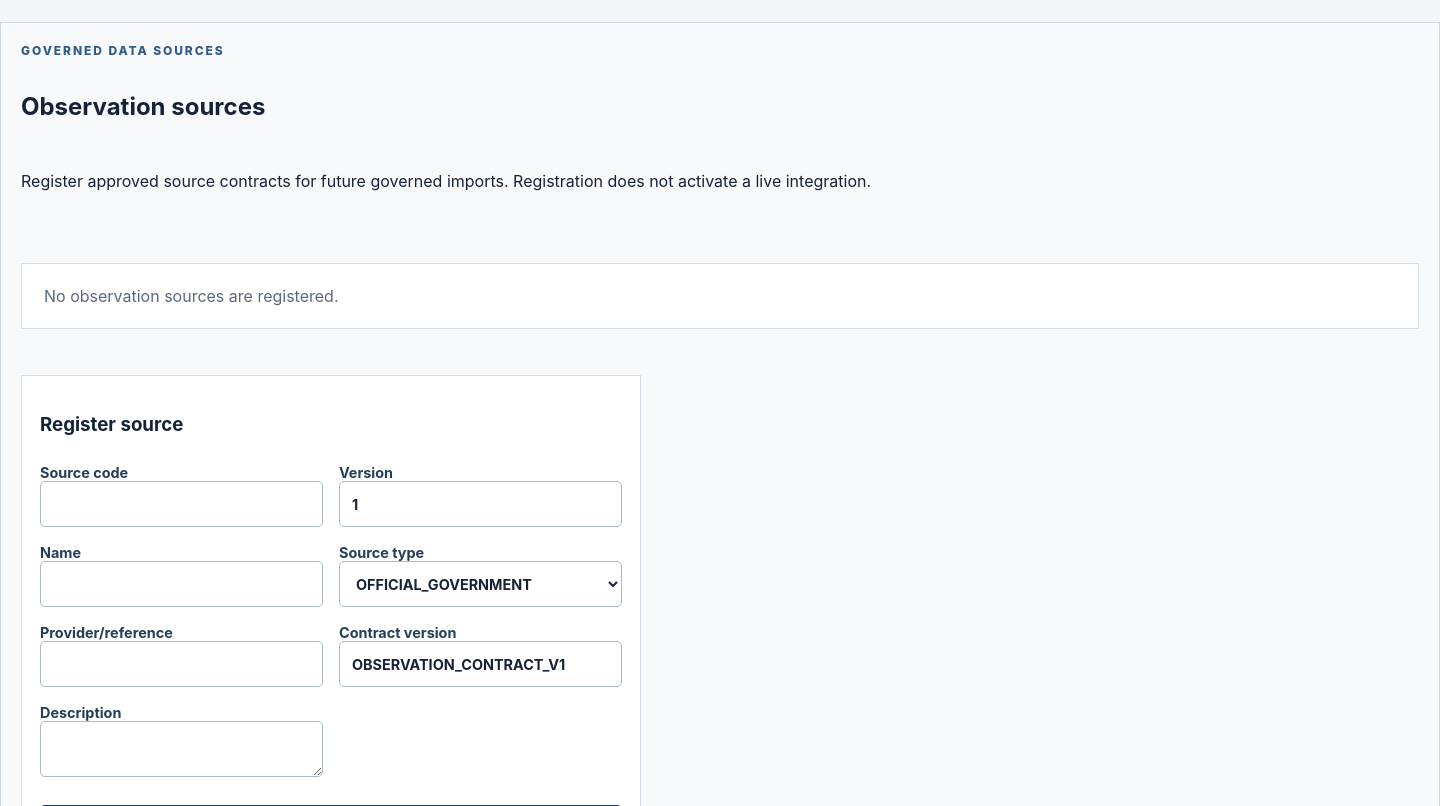
observation source administration › registers a source then refreshes the authoritative list
Expected: the text "No observation sources are registered." is shown, [21,263,1419,329]
Step 1. Type "WX" into the field labelled "Source code" → (182, 504), box [40,481,323,527]
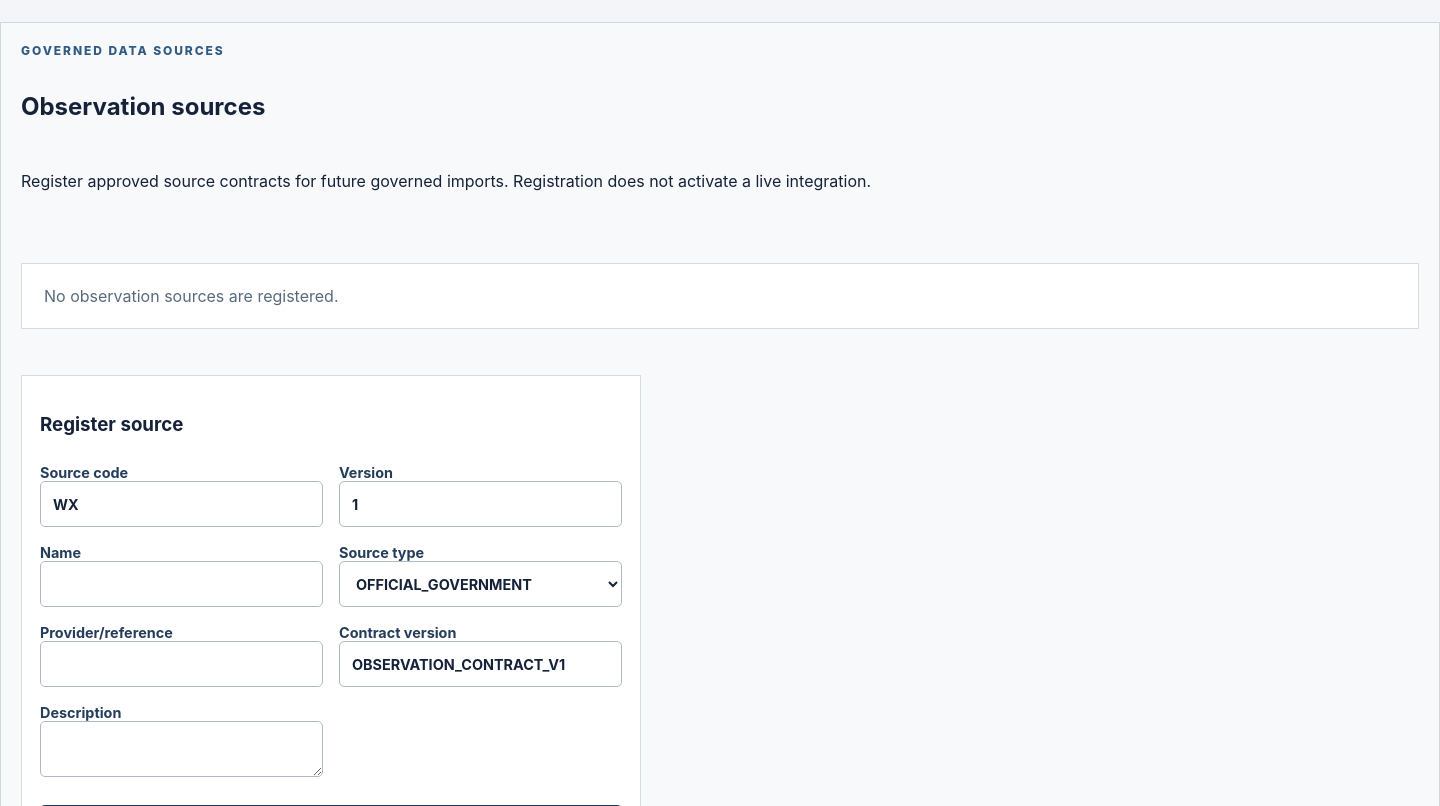
Step 2. Type "Official Weather" into the field labelled "Name" → (182, 584), box [40,561,323,607]
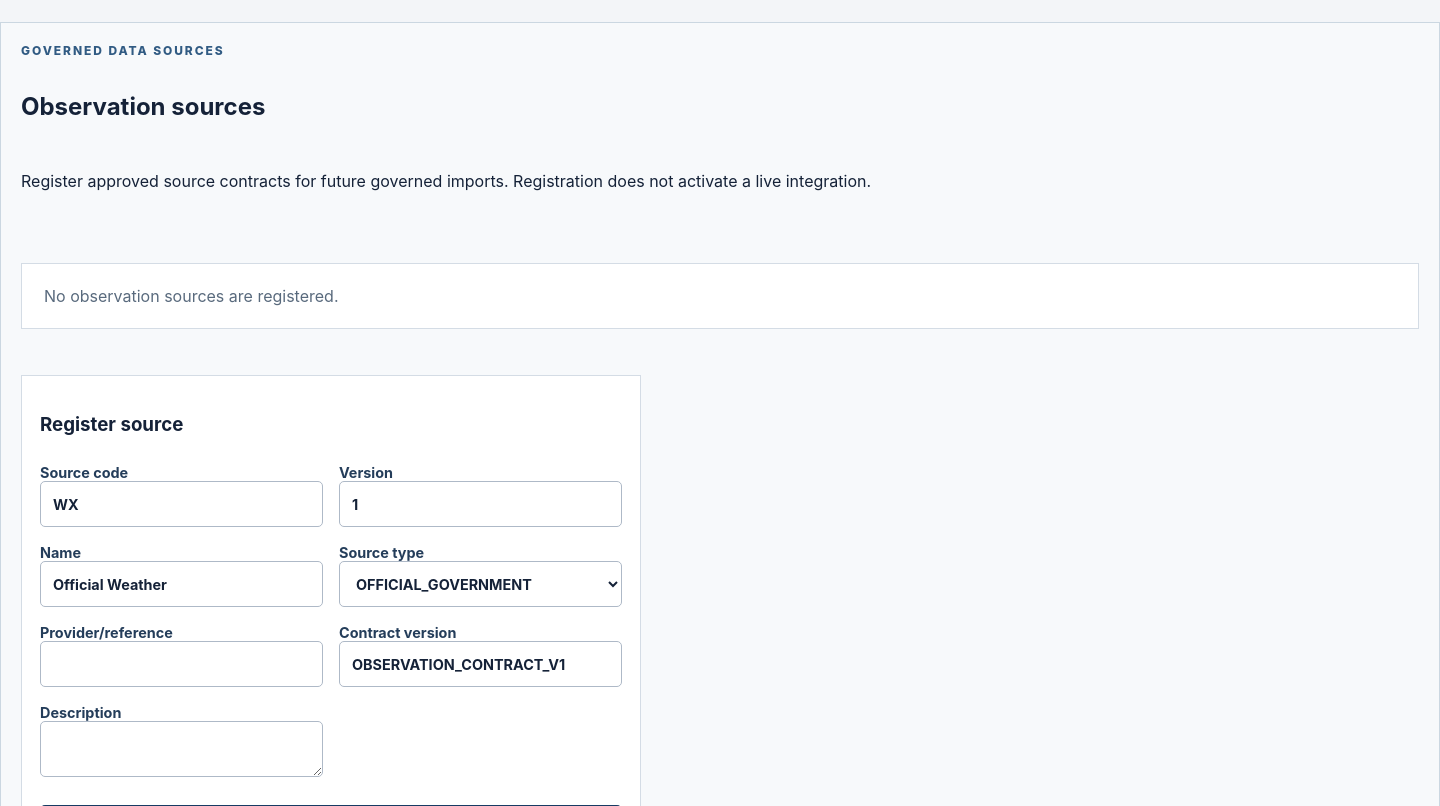
Step 3. Type "official" into the field labelled "Provider/reference" → (182, 664), box [40,641,323,687]
(page scrolled)
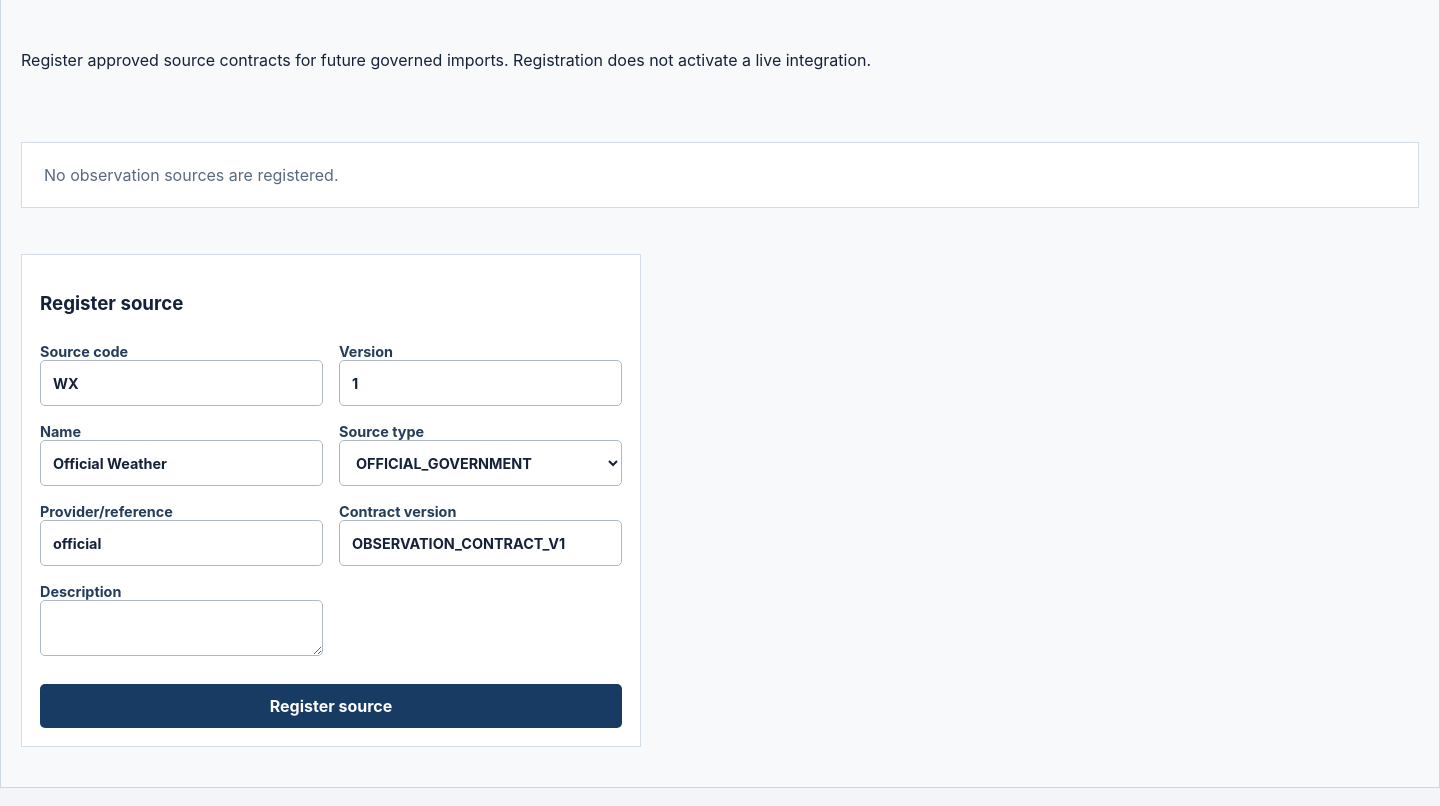
Step 4. Click the button "Register source" → (331, 706), box [40,684,622,728]
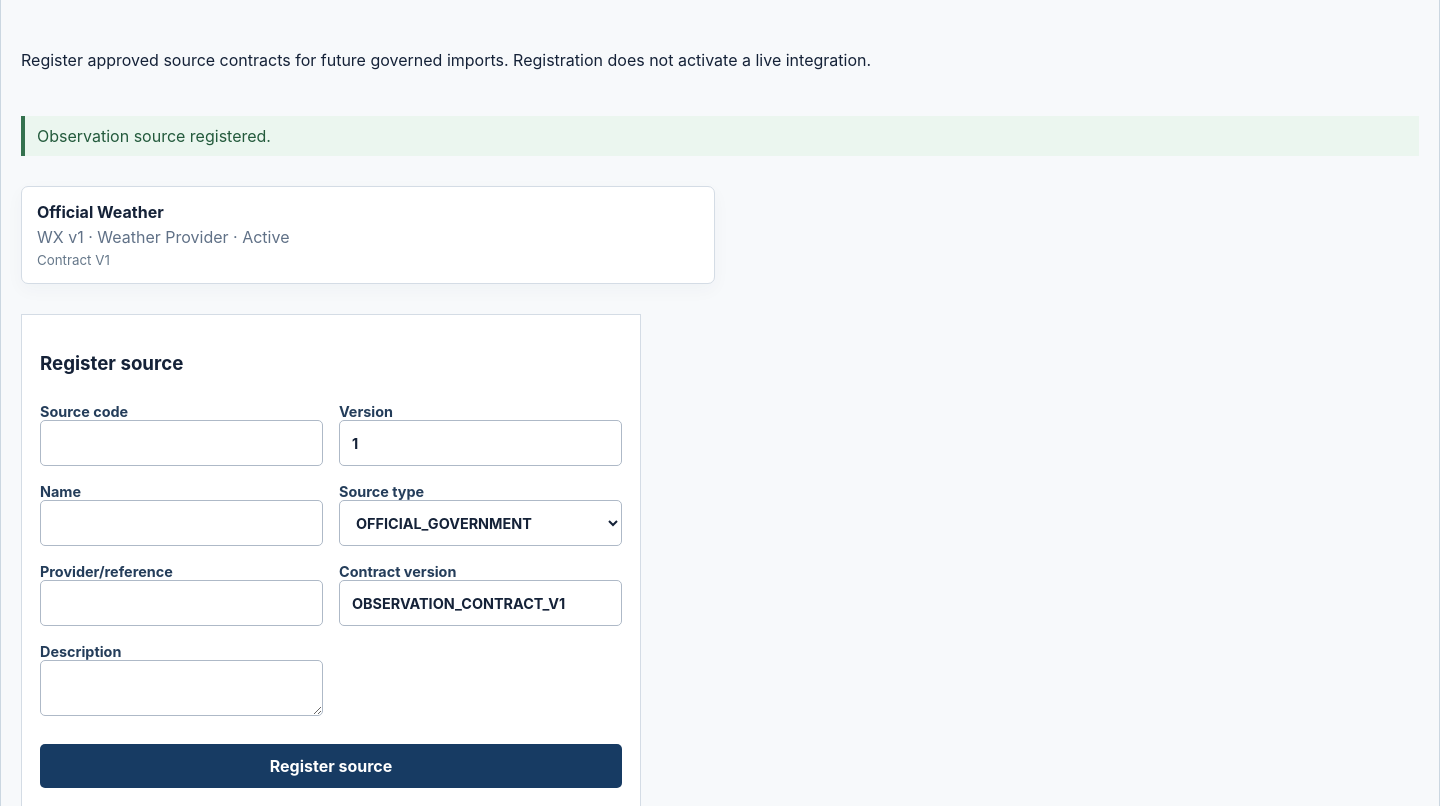
Expected: the text "Observation source registered." is shown, [21,116,1419,156]
Expected: the text "Official Weather" is shown, [37,202,164,222]
